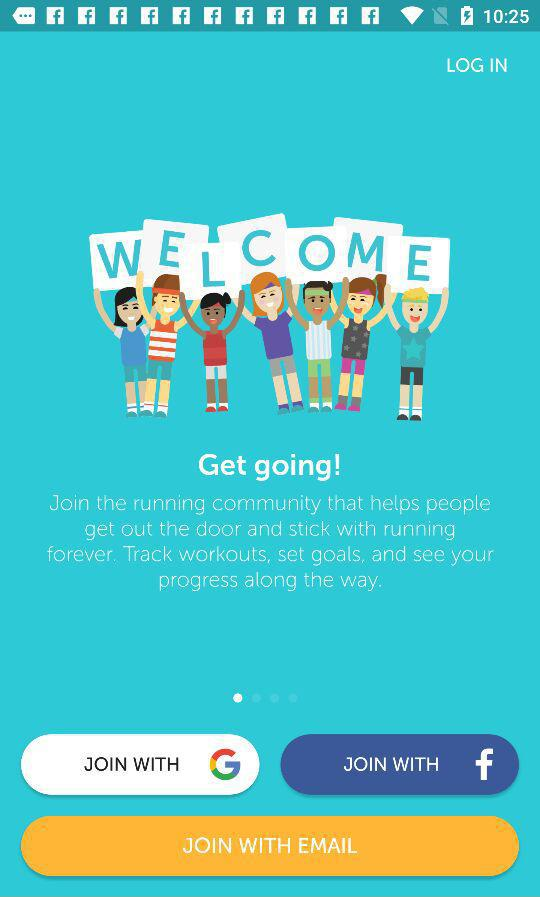Image: (86, 211, 451, 423)
PageIndicator: (232, 692, 299, 704)
Text: (46, 494, 494, 595), (199, 454, 341, 482), (446, 57, 508, 74)
TextButton: (20, 816, 520, 877), (280, 734, 520, 796), (21, 734, 261, 796)
UpperTaskBar: (1, 1, 540, 33)
